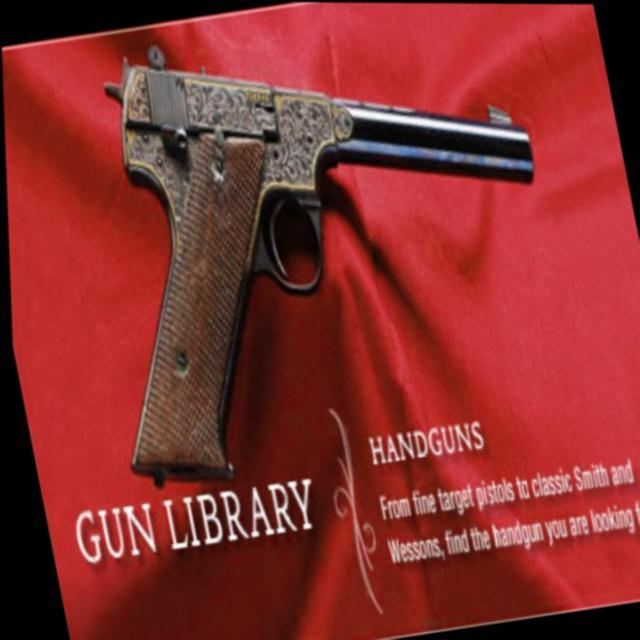weapon: (48, 0, 585, 498)
